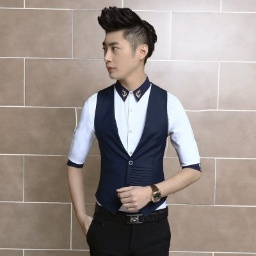face: (97, 5, 159, 80)
